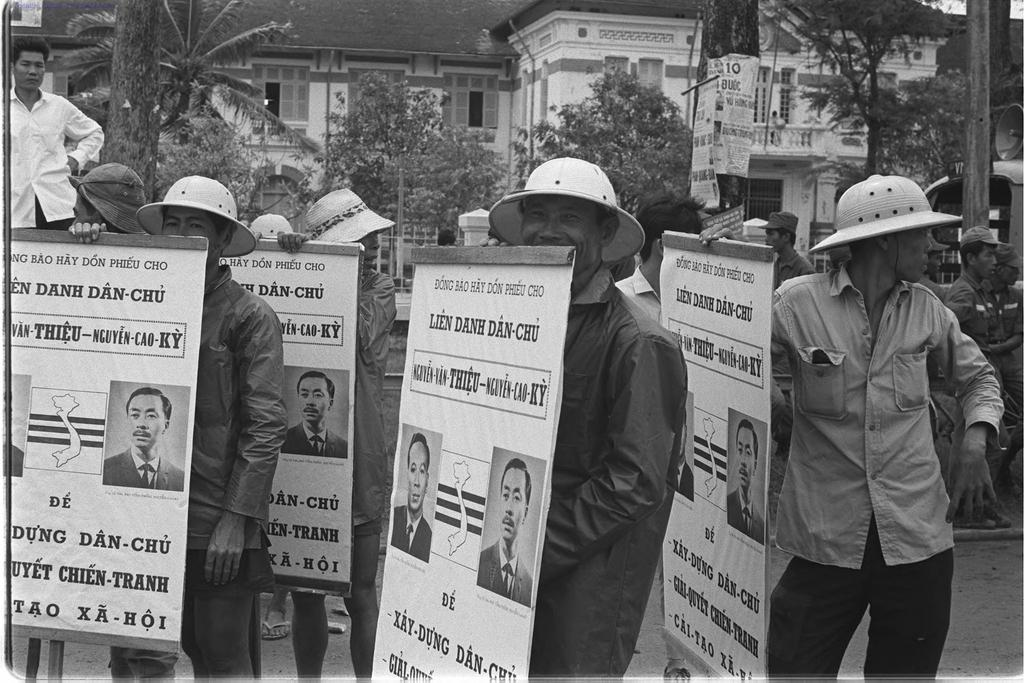Hat: (488, 160, 644, 264), (806, 174, 960, 252), (137, 174, 256, 259), (66, 161, 143, 232), (302, 188, 395, 244), (958, 223, 1003, 249), (250, 211, 290, 236), (758, 210, 798, 231)
